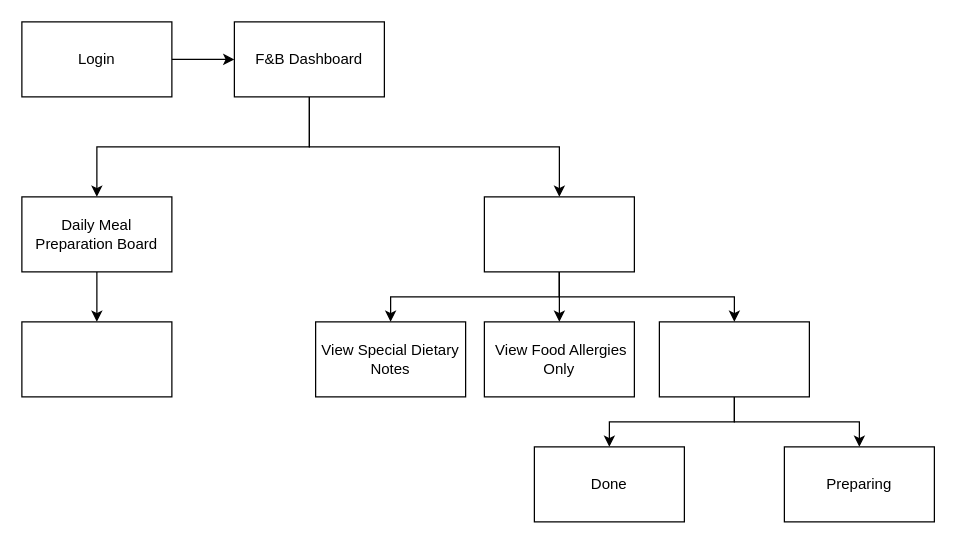
Image size: 956x544. Some labels were removed from this diagram. The shapes that lost their labels are listed below. From the top down, each one's centre as x and y in pixels, then its label:
[558,234]: View Orders
[96,359]: Meal Order Detail
[733,359]: Update Meal Status
